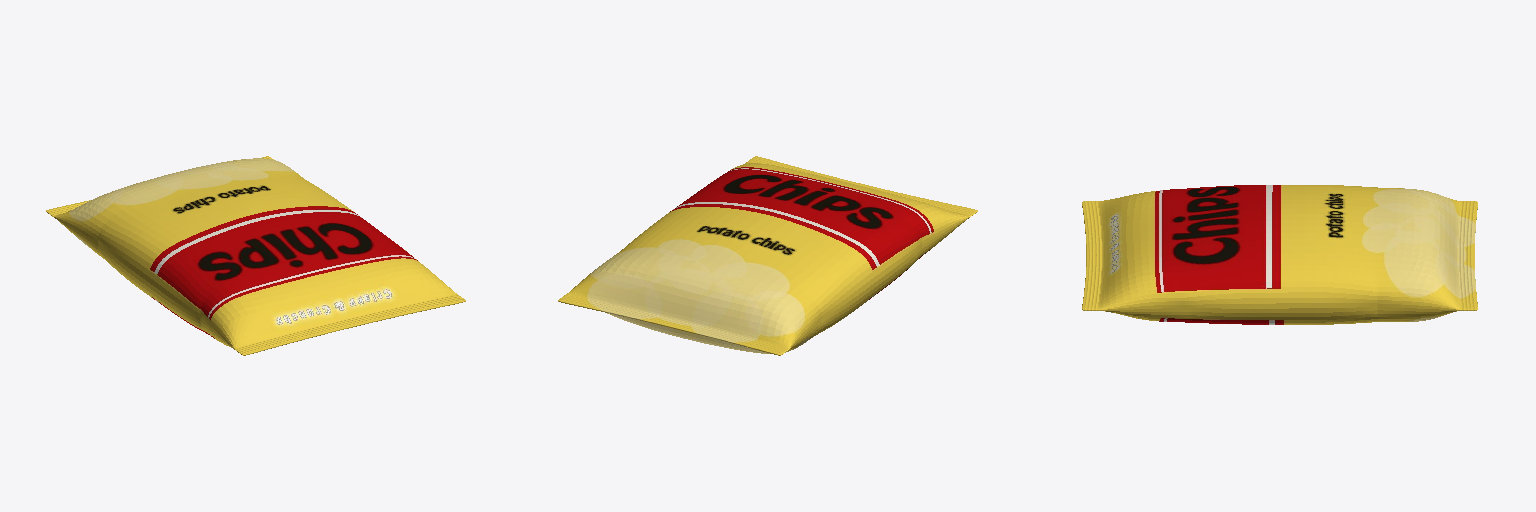
The picture shows the model from 3 angles: view 1: azimuth 30°, elevation 25°; view 2: azimuth 150°, elevation 25°; view 3: azimuth 270°, elevation 25°; orthographic projection.
Bounding box in the file's own units: 13.03 × 4.65 × 19.93.
Materials: 1 (1 with a texture image).